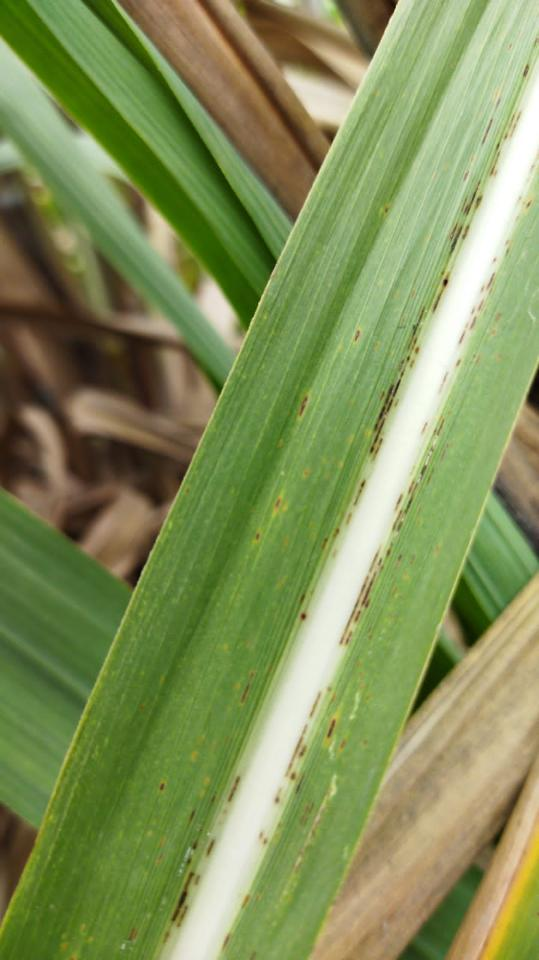Rust: (216, 151, 539, 955), (368, 33, 539, 464), (158, 770, 248, 948), (319, 475, 371, 551), (235, 669, 260, 711), (292, 586, 315, 626), (294, 391, 315, 424), (271, 493, 286, 515), (252, 524, 266, 547), (125, 924, 140, 944), (155, 777, 169, 795), (381, 201, 395, 219), (351, 327, 364, 345)
Yellow: (466, 802, 539, 959)
